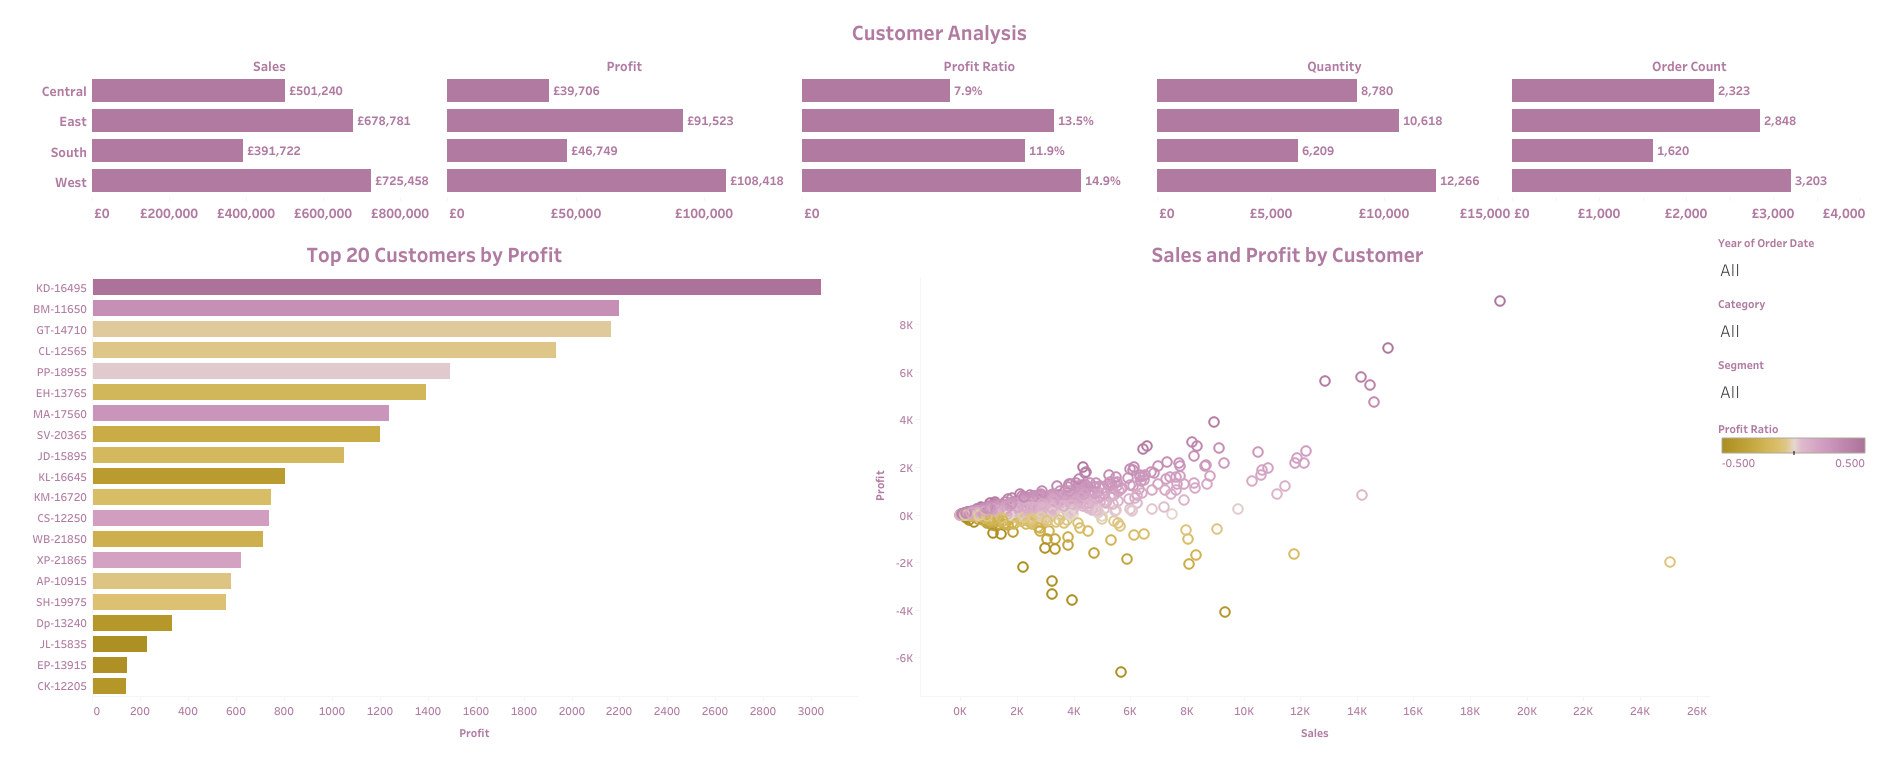

The page's visual inventory and layout, read from the dashboard file:
{"tool":"tableau","page":{"name":"Viz","canvas":[1700,900],"ordinal":0},"visuals":[{"type":"worksheet","title":"Customer Analysis","mark":"Automatic","rows":["Region"],"box":[8,8,1684,264]},{"type":"worksheet","title":"Top 20 Customers by Profit","mark":"Automatic","rows":["Customer ID"],"cols":["Profit"],"box":[8,272,762,620]},{"type":"worksheet","title":"Sales and Profit by Customer","mark":"Automatic","rows":["Profit"],"cols":["Sales"],"box":[770,272,762,620]},{"type":"filter","title":"Top 20 Customers by Profit","param":"[federated.1nszc7n0e4p07v13ipk0t11jxr7u].[yr:Order Date:ok]","box":[1532,272,160,61]},{"type":"filter","title":"Top 20 Customers by Profit","param":"[federated.1nszc7n0e4p07v13ipk0t11jxr7u].[none:Category:nk]","box":[1532,333,160,61]},{"type":"filter","title":"Top 20 Customers by Profit","param":"[federated.1nszc7n0e4p07v13ipk0t11jxr7u].[none:Segment:nk]","box":[1532,394,160,61]},{"type":"legend","title":"Sales and Profit by Customer","param":"[federated.1nszc7n0e4p07v13ipk0t11jxr7u].[usr:Calculation_458030162826154003:qk]","box":[1532,455,160,62]}]}

Visuals, with their boxes on the page's 1700x900 design canvas (x1, y1, x2, y2). These are canvas units, not pixel positions in the 1881x758 screenshot, which may show the page scaled, cropped or inside an application window:
"Customer Analysis" worksheet: x1=8 y1=8 x2=1692 y2=272
"Top 20 Customers by Profit" worksheet: x1=8 y1=272 x2=770 y2=892
"Sales and Profit by Customer" worksheet: x1=770 y1=272 x2=1532 y2=892
"Top 20 Customers by Profit" filter: x1=1532 y1=272 x2=1692 y2=333
"Top 20 Customers by Profit" filter: x1=1532 y1=333 x2=1692 y2=394
"Top 20 Customers by Profit" filter: x1=1532 y1=394 x2=1692 y2=455
"Sales and Profit by Customer" legend: x1=1532 y1=455 x2=1692 y2=517
